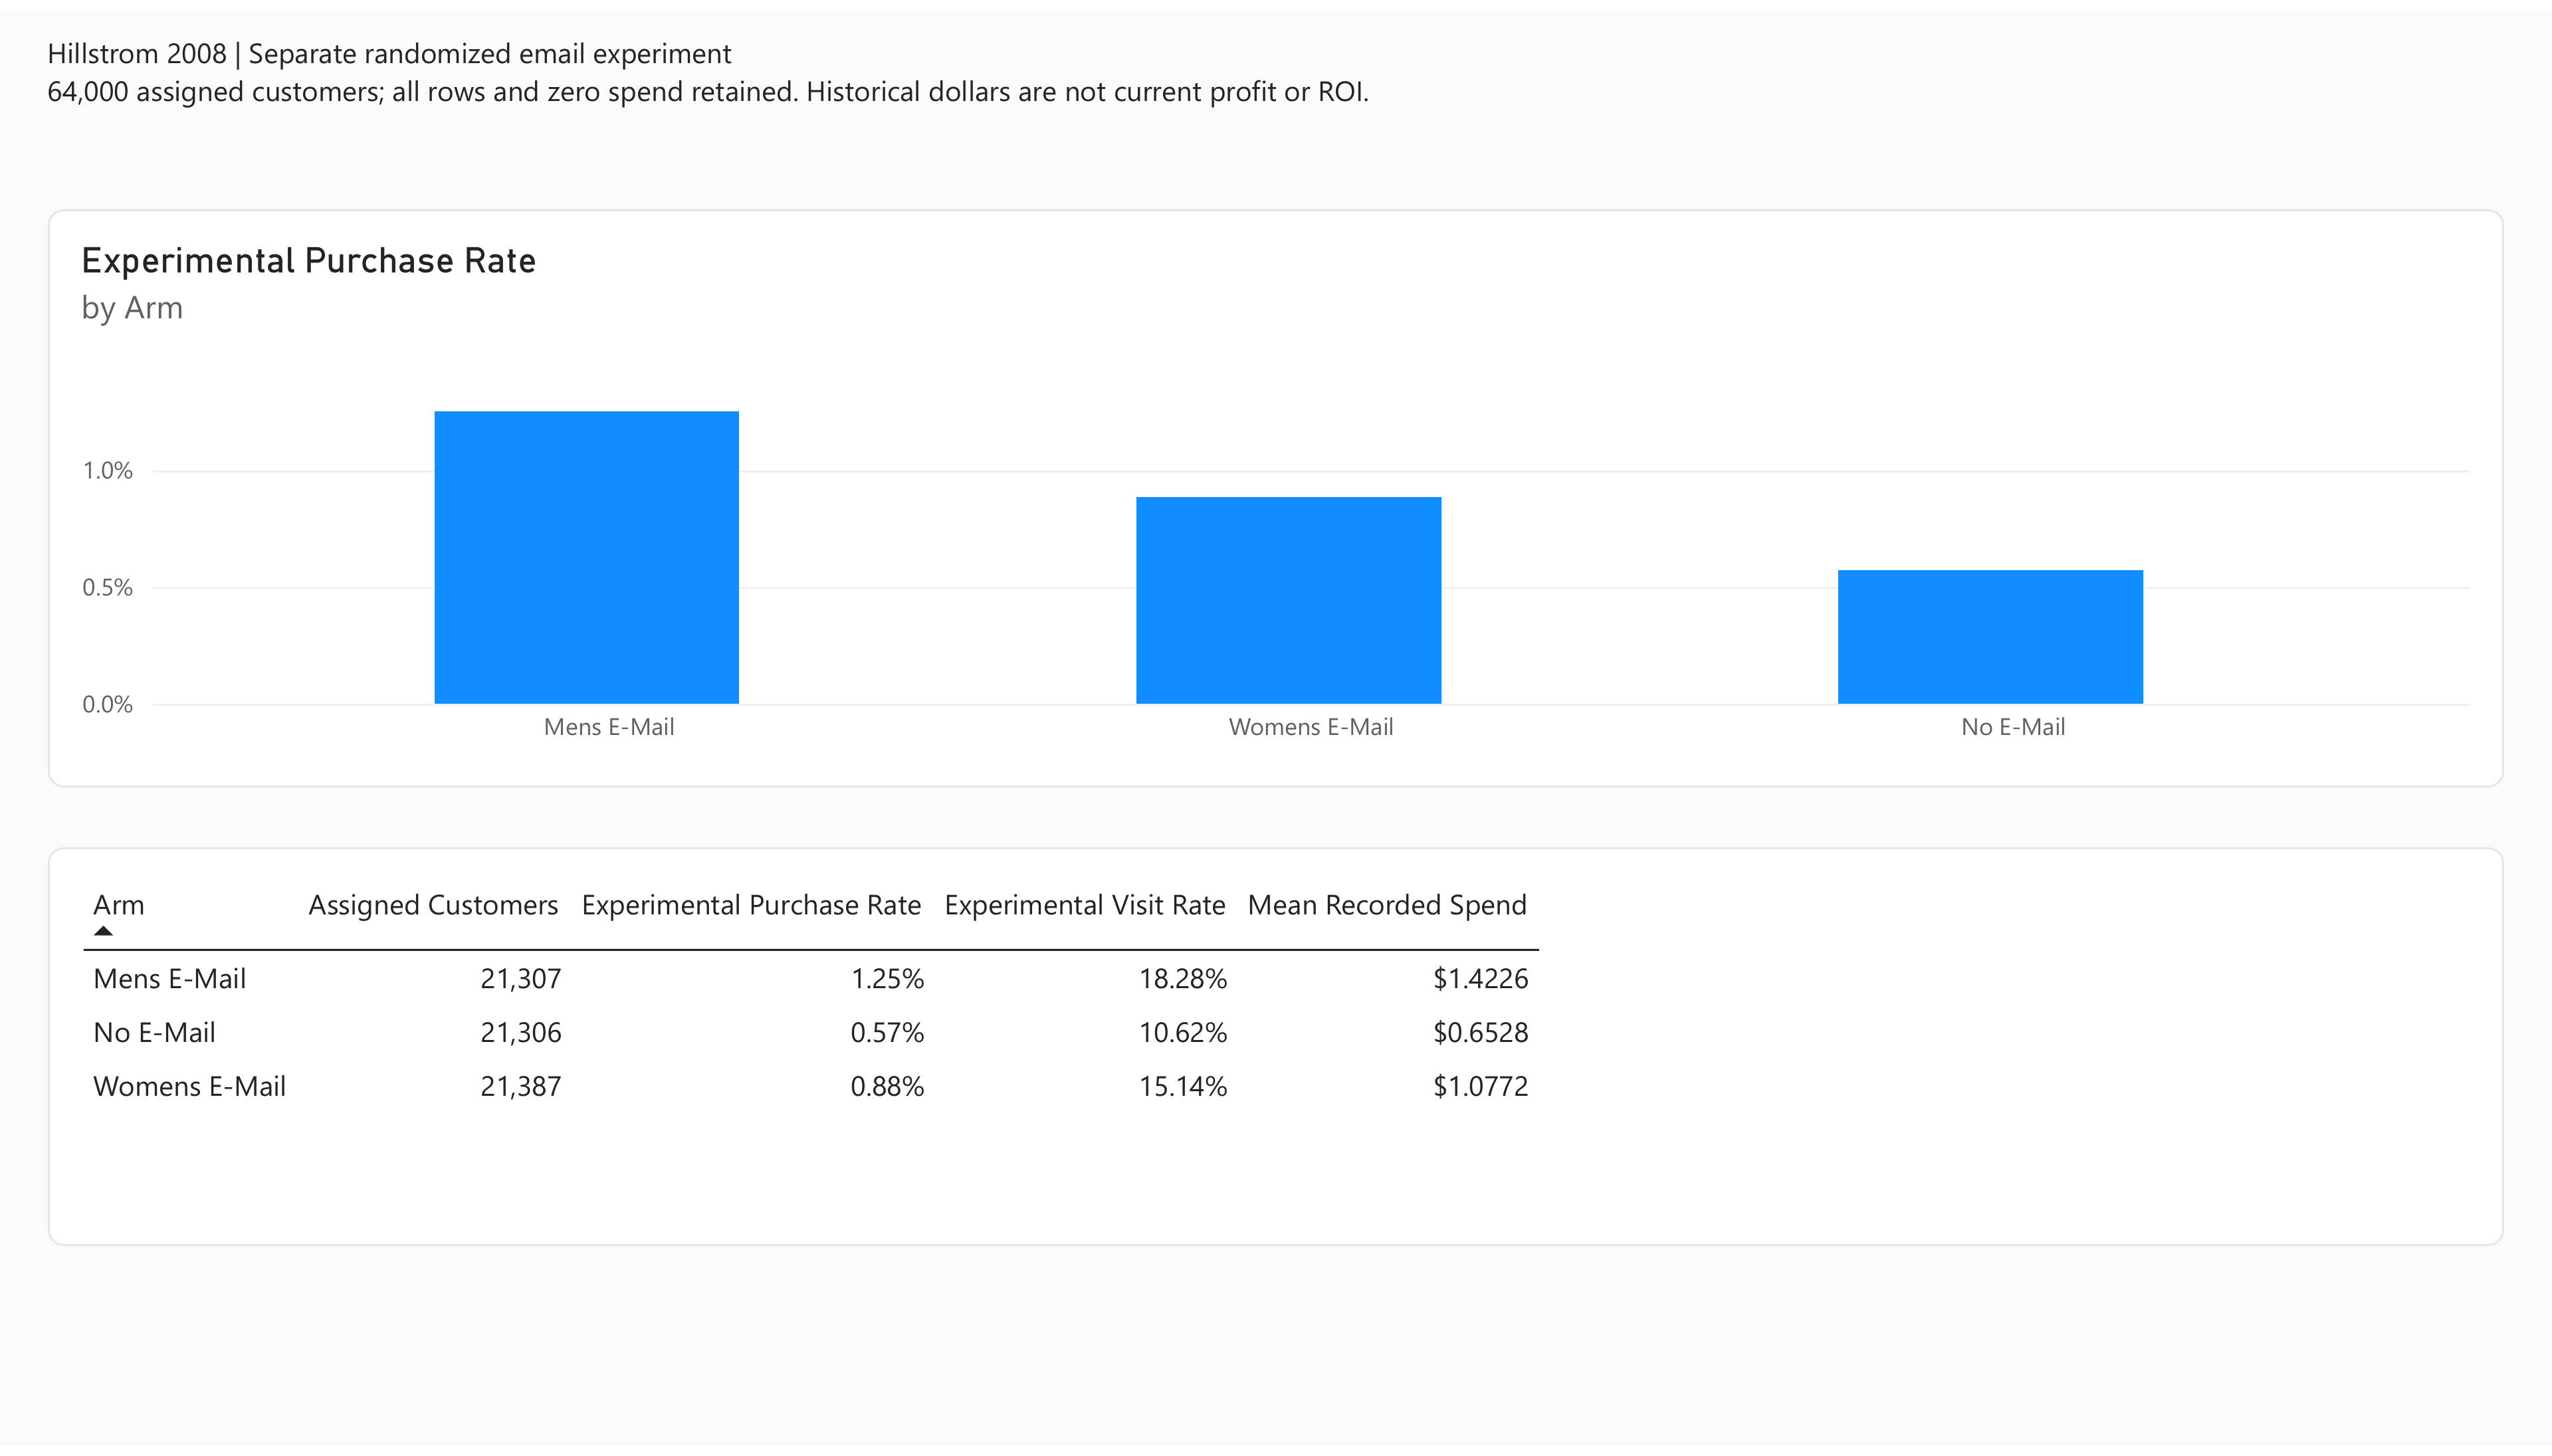

This screenshot's page, from the dashboard's own definition file:
{"tool":"powerbi","page":{"name":"05 Email Experiment","canvas":[1280,720],"ordinal":4},"visuals":[{"type":"clusteredColumnChart","fields":{"Category":["biExperimentArms.Arm"],"Y":["biExperimentArms.Experimental Purchase Rate"]},"box":[24,100,1232,290],"z":0},{"type":"tableEx","fields":{"Values":["biExperimentArms.Arm","biExperimentArms.Assigned Customers","biExperimentArms.Experimental Purchase Rate","biExperimentArms.Experimental Visit Rate","biExperimentArms.Mean Recorded Spend"]},"box":[24,420,1232,200],"z":1},{"type":"textbox","box":[24,12,1232,70],"z":2}]}

Visuals, with their boxes in screenshot pixels (x1, y1, x2, y2), scaled from the page's 1280x720 canvas onto the 2552x1456 screenshot:
clusteredColumnChart - biExperimentArms.Arm x biExperimentArms.Experimental Purchase Rate: [x1=48, y1=202, x2=2504, y2=789]
tableEx - biExperimentArms.Arm x biExperimentArms.Assigned Customers: [x1=48, y1=849, x2=2504, y2=1254]
textbox: [x1=48, y1=25, x2=2504, y2=166]
